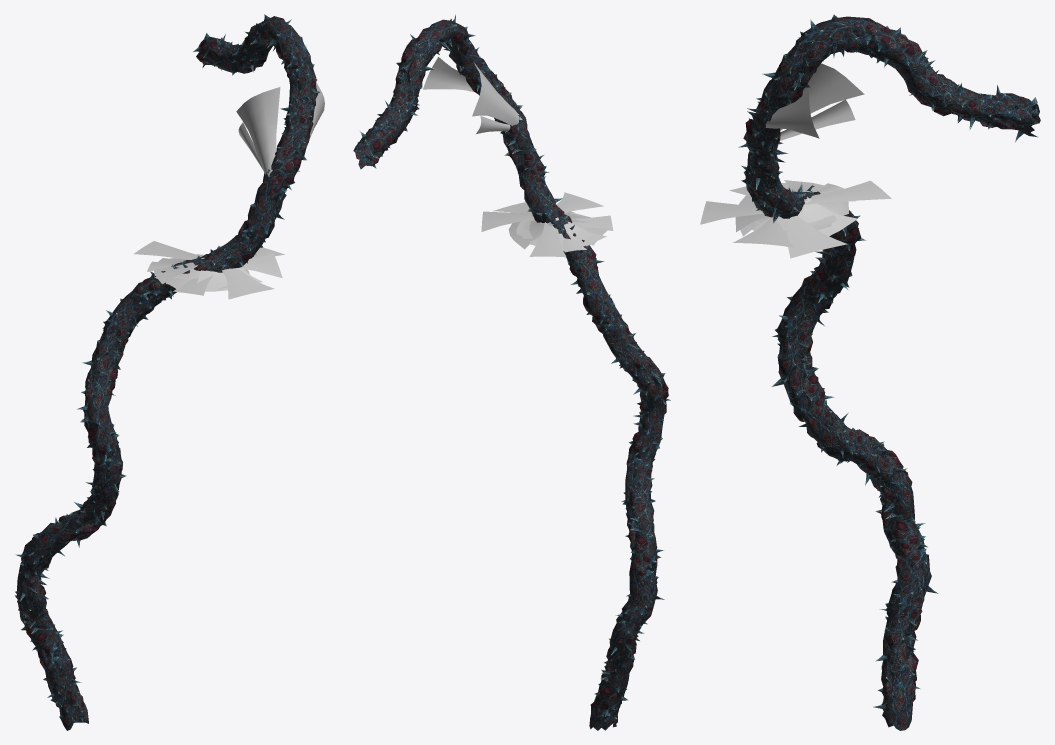
Rendered from L03_Heltree15.fbx.
The picture shows the model from 3 angles, left to right: view 1: azimuth 30°, elevation 25°; view 2: azimuth 150°, elevation 25°; view 3: azimuth 270°, elevation 25°; orthographic projection. The views are drawn at different scales.
Visible parts, largest first — view 1: LODGroup_3_MainMesh_2_SubMesh_1, LODGroup_3_MainMesh_2_SubMesh_2, LODGroup_3_MainMesh_1_SubMesh_1; view 2: LODGroup_3_MainMesh_2_SubMesh_1, LODGroup_3_MainMesh_2_SubMesh_2, LODGroup_3_MainMesh_1_SubMesh_1; view 3: LODGroup_3_MainMesh_2_SubMesh_1, LODGroup_3_MainMesh_2_SubMesh_2, LODGroup_3_MainMesh_1_SubMesh_1.
Part boxes in pixels (left/top/right/bottom): LODGroup_3_MainMesh_2_SubMesh_1: left=15, top=14, right=320, bottom=723; LODGroup_3_MainMesh_2_SubMesh_2: left=14, top=26, right=317, bottom=730; LODGroup_3_MainMesh_1_SubMesh_1: left=134, top=83, right=324, bottom=299; LODGroup_3_MainMesh_2_SubMesh_1: left=359, top=14, right=670, bottom=730; LODGroup_3_MainMesh_2_SubMesh_2: left=353, top=18, right=662, bottom=730; LODGroup_3_MainMesh_1_SubMesh_1: left=423, top=57, right=613, bottom=257; LODGroup_3_MainMesh_2_SubMesh_1: left=738, top=16, right=1040, bottom=730; LODGroup_3_MainMesh_2_SubMesh_2: left=741, top=14, right=1037, bottom=718; LODGroup_3_MainMesh_1_SubMesh_1: left=700, top=63, right=891, bottom=258.
Size of the model in its own units: 1598 by 3687 by 1391.
